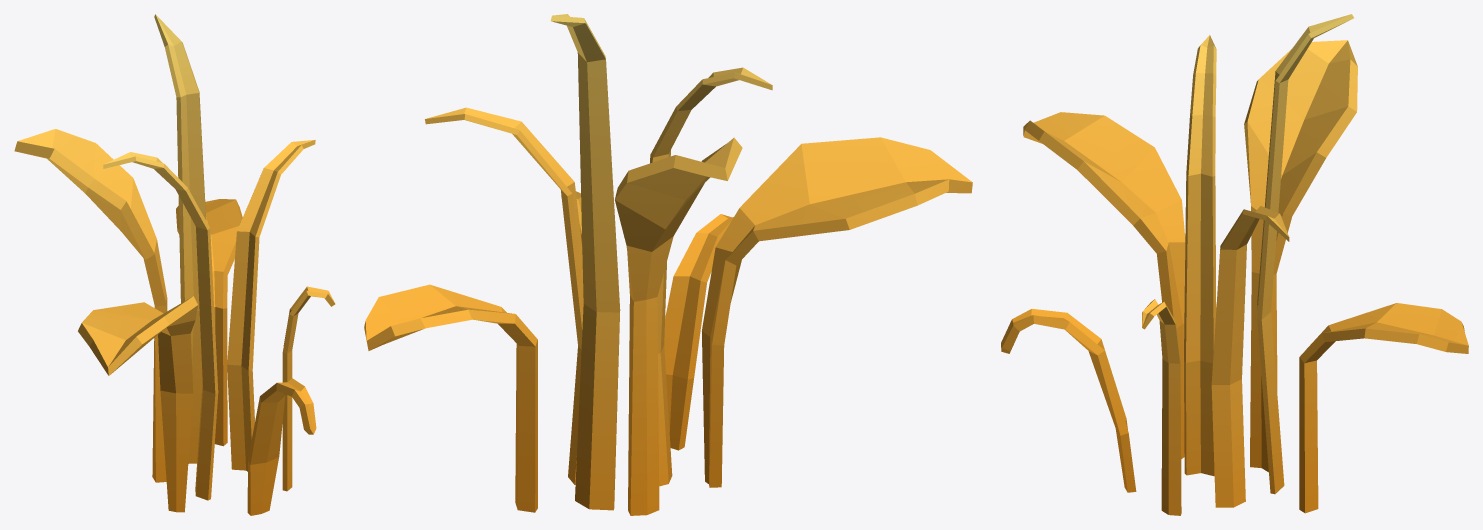
The model's file is plants yellow.fbx.
3 renders of one model, left to right at view 1: azimuth 30°, elevation 25°; view 2: azimuth 150°, elevation 25°; view 3: azimuth 270°, elevation 25°, orthographic. The views are drawn at different scales.
Parts seen in each view (by area): view 1: plants yellow; view 2: plants yellow; view 3: plants yellow.
Part boxes in pixels (bbox=[...]): plants yellow: bbox=[14, 14, 335, 515]; plants yellow: bbox=[364, 14, 972, 515]; plants yellow: bbox=[1001, 14, 1468, 515].
Bounding box in the file's own units: 183 × 227 × 204.
